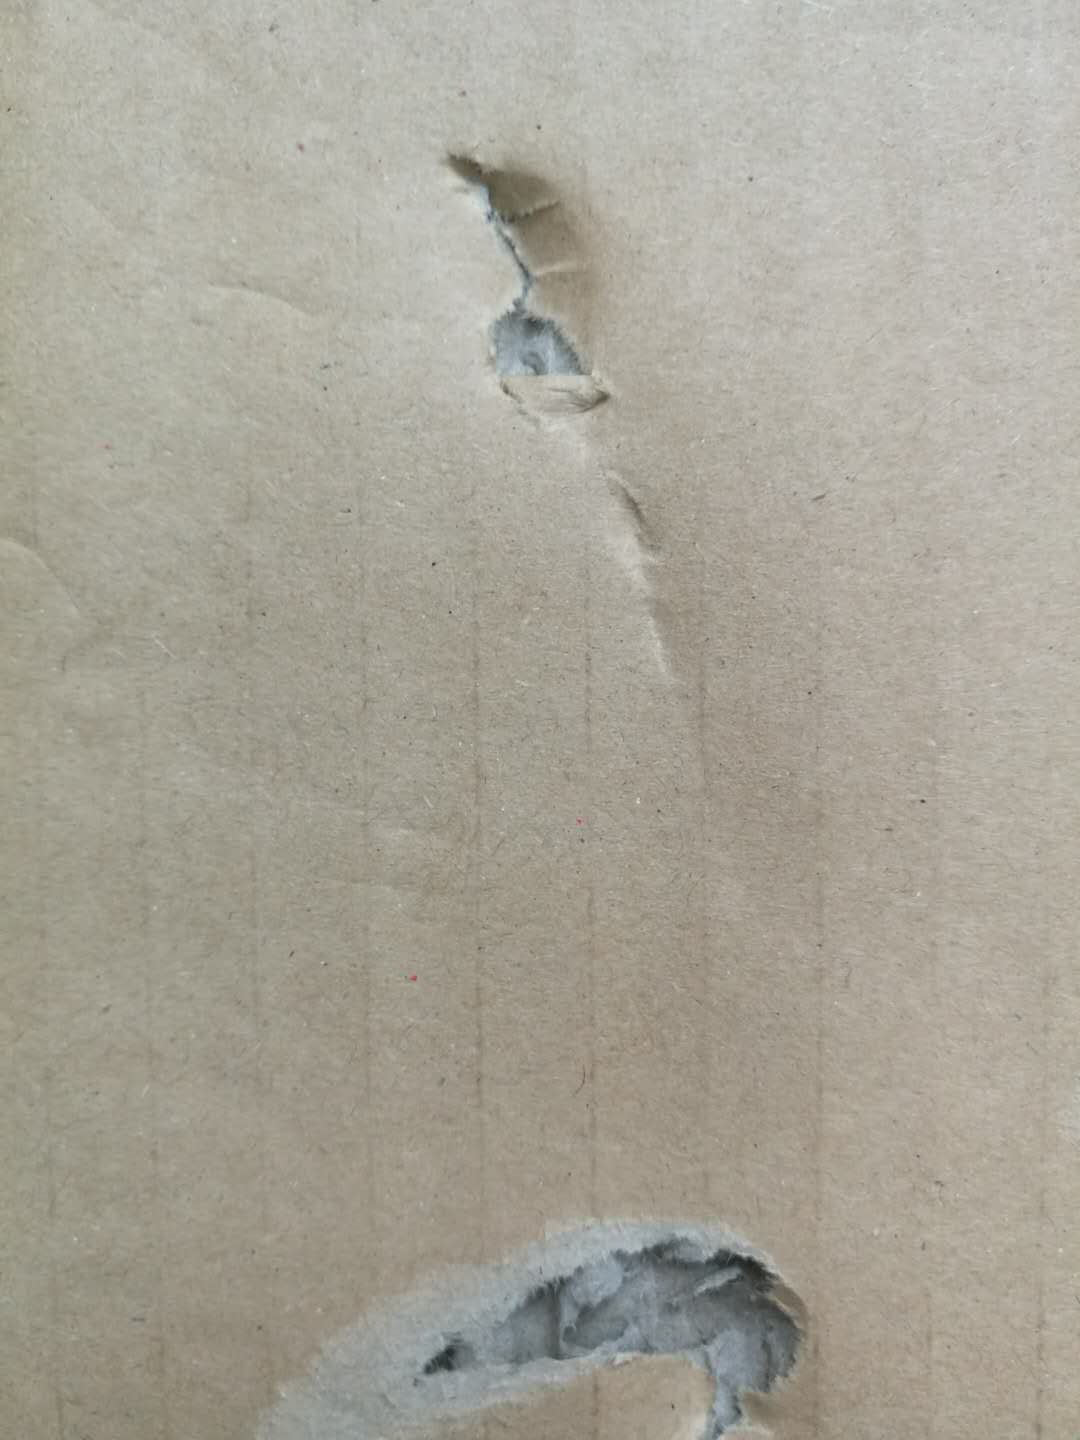defect: (216, 1187, 874, 1440), (419, 127, 653, 452), (577, 455, 722, 718)
